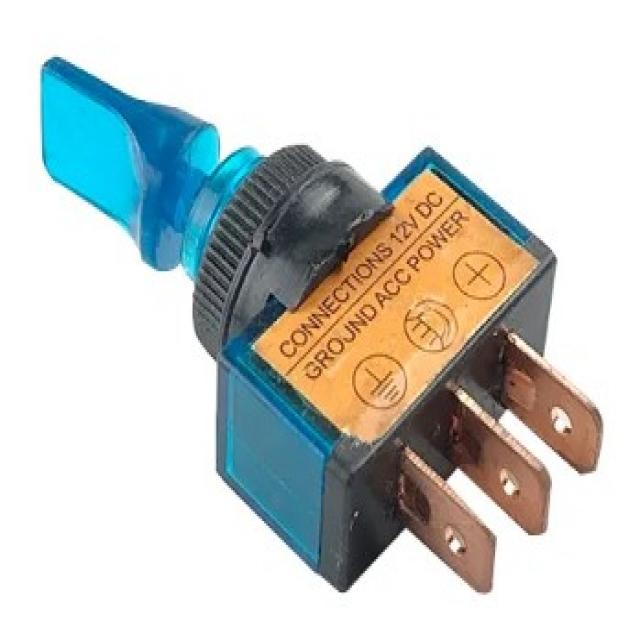toggle switch: (41, 56, 396, 356)
